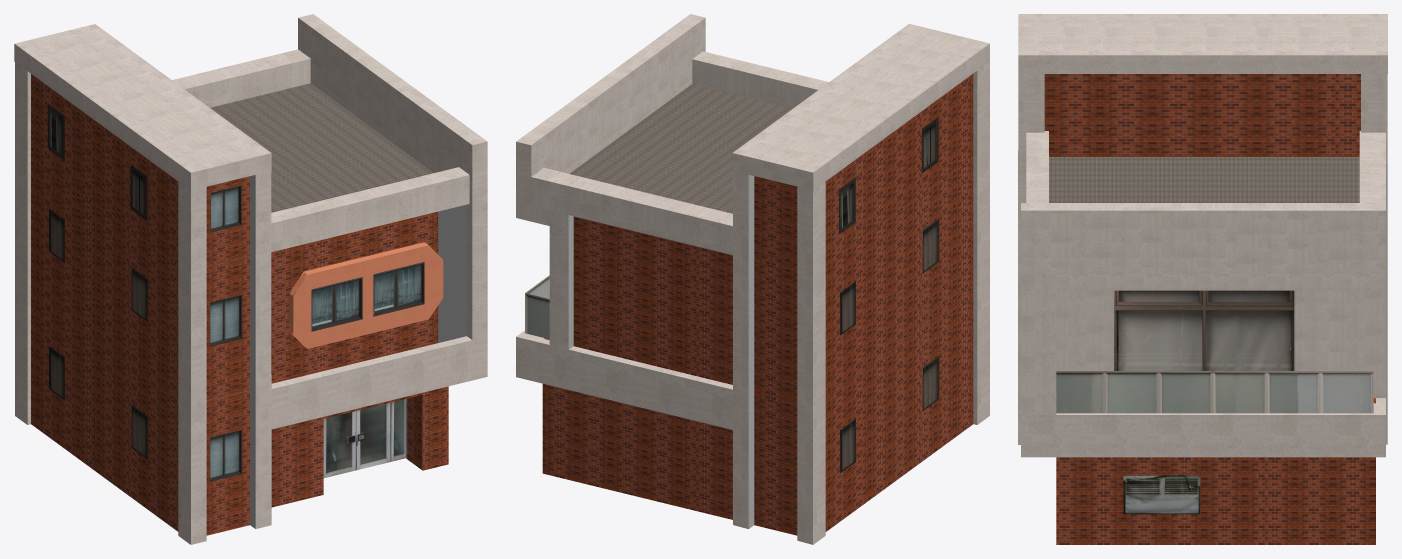
The model's file is bill02_break.fbx.
3 renders of one model, left to right at view 1: azimuth 30°, elevation 25°; view 2: azimuth 150°, elevation 25°; view 3: azimuth 270°, elevation 25°, orthographic. The views are drawn at different scales.
Parts seen in each view (by area): view 1: shard49, shard12, shard78, shard69, shard47, shard81, shard82, shard94, shard56, shard52, shard73, shard15 (+44 smaller); view 2: shard49, shard12, shard18, shard78, shard6, shard81, shard69, shard82, shard94, shard66, shard48, shard67 (+25 smaller); view 3: shard6, shard54, shard79, shard92, shard75, shard55, shard82, shard93, shard69, shard65, shard81, shard66 (+20 smaller).
Part boxes in pixels (x1=…): shard49: x1=31, y1=155, x2=178, y2=396; shard12: x1=31, y1=289, x2=178, y2=531; shard78: x1=31, y1=80, x2=178, y2=262; shard69: x1=196, y1=58, x2=421, y2=169; shard47: x1=271, y1=204, x2=466, y2=383; shard81: x1=14, y1=34, x2=230, y2=189; shard82: x1=55, y1=24, x2=271, y2=172; shard94: x1=298, y1=15, x2=476, y2=160; shard56: x1=300, y1=242, x2=443, y2=348; shard52: x1=329, y1=202, x2=487, y2=360; shard73: x1=271, y1=173, x2=469, y2=252; shard15: x1=271, y1=397, x2=415, y2=470; shard49: x1=573, y1=155, x2=973, y2=400; shard12: x1=754, y1=289, x2=973, y2=497; shard18: x1=611, y1=424, x2=899, y2=535; shard78: x1=778, y1=74, x2=973, y2=265; shard6: x1=542, y1=338, x2=723, y2=489; shard81: x1=754, y1=34, x2=989, y2=190; shard69: x1=569, y1=111, x2=732, y2=213; shard82: x1=732, y1=23, x2=949, y2=181; shard94: x1=520, y1=17, x2=705, y2=190; shard66: x1=655, y1=71, x2=810, y2=163; shard48: x1=570, y1=215, x2=633, y2=360; shard67: x1=582, y1=187, x2=732, y2=254; shard6: x1=1057, y1=398, x2=1375, y2=544; shard54: x1=1166, y1=290, x2=1385, y2=397; shard79: x1=1127, y1=74, x2=1360, y2=156; shard92: x1=1023, y1=208, x2=1385, y2=273; shard75: x1=1044, y1=74, x2=1269, y2=156; shard55: x1=1056, y1=290, x2=1220, y2=370; shard82: x1=1018, y1=34, x2=1387, y2=64; shard93: x1=1021, y1=205, x2=1282, y2=273; shard69: x1=1156, y1=157, x2=1359, y2=202; shard65: x1=1056, y1=371, x2=1292, y2=413; shard81: x1=1020, y1=14, x2=1387, y2=34; shard66: x1=1043, y1=131, x2=1202, y2=202.
Bounding box in the file's own units: 812 × 969 × 833.
